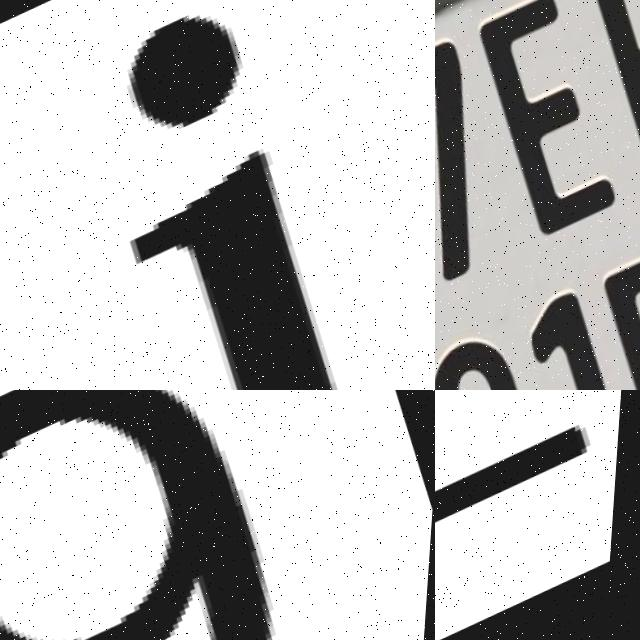0: (435, 322, 582, 390)
1: (509, 289, 640, 390)
7: (435, 32, 537, 304)
9: (0, 390, 359, 640)
E: (463, 0, 638, 255)
H: (577, 0, 640, 210)
I: (37, 0, 435, 390)
Z: (435, 390, 629, 640)
